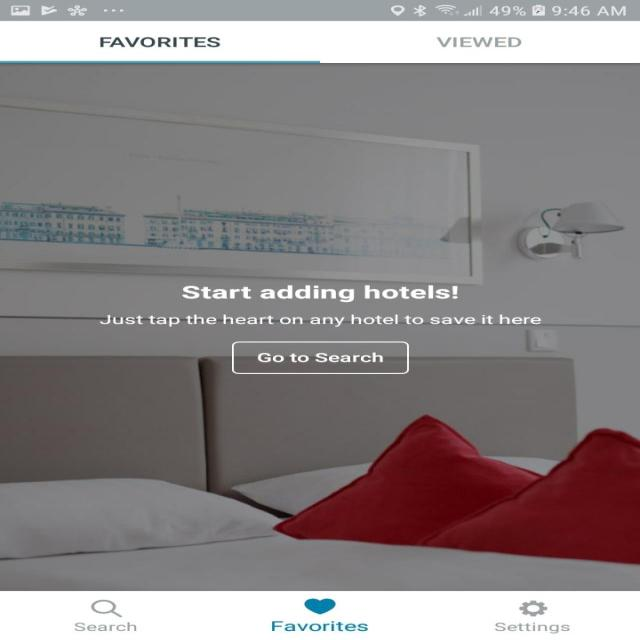Icon: (90, 599, 122, 617), (304, 597, 336, 614), (518, 599, 548, 616)
Image: (0, 63, 639, 590)
Text: (98, 314, 540, 327), (181, 284, 458, 302), (100, 36, 220, 48), (271, 620, 368, 631), (435, 36, 521, 47), (494, 622, 570, 634), (74, 621, 136, 631)
TextButton: (231, 341, 409, 374)
